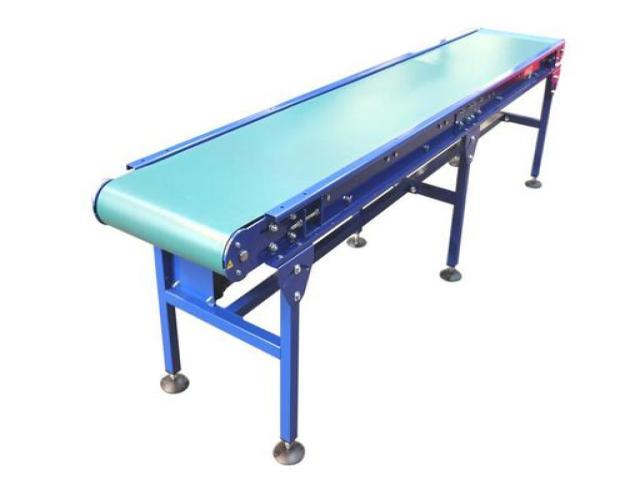conveyor: (89, 24, 569, 466)
